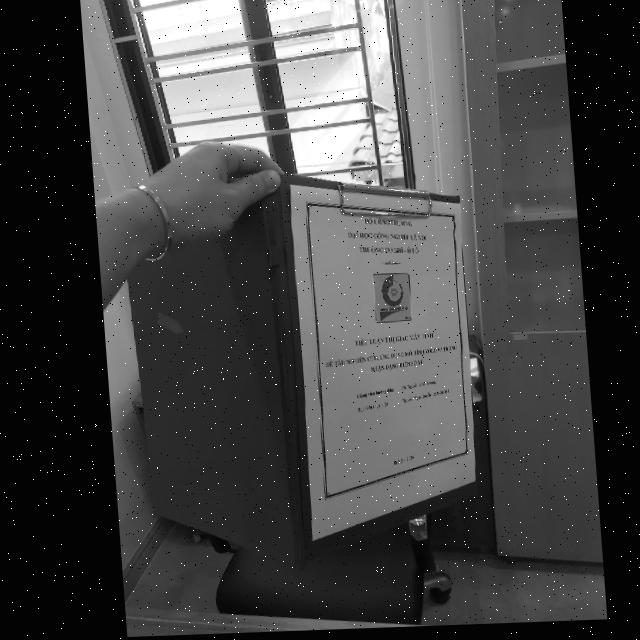document: (291, 185, 475, 541)
